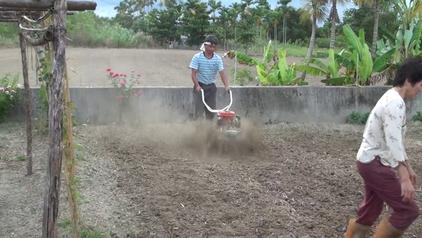walk: (188, 37, 227, 122)
